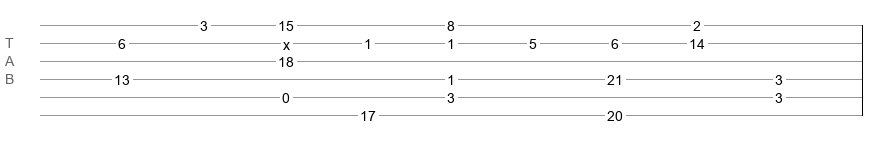0: (282, 90, 290, 100)
1: (364, 36, 372, 46), (447, 36, 455, 46), (447, 72, 455, 82)
13: (114, 72, 130, 82)
14: (689, 36, 705, 46)
15: (278, 18, 294, 28)
17: (360, 108, 376, 118)
18: (278, 54, 294, 64)
2: (693, 18, 701, 28)
20: (607, 108, 623, 118)
21: (607, 72, 623, 82)
3: (200, 18, 208, 28), (447, 90, 455, 100), (775, 90, 783, 100), (775, 72, 783, 82)
5: (529, 36, 537, 46)
6: (118, 36, 126, 46), (611, 36, 619, 46)
8: (447, 18, 455, 28)
x: (283, 37, 290, 45)
